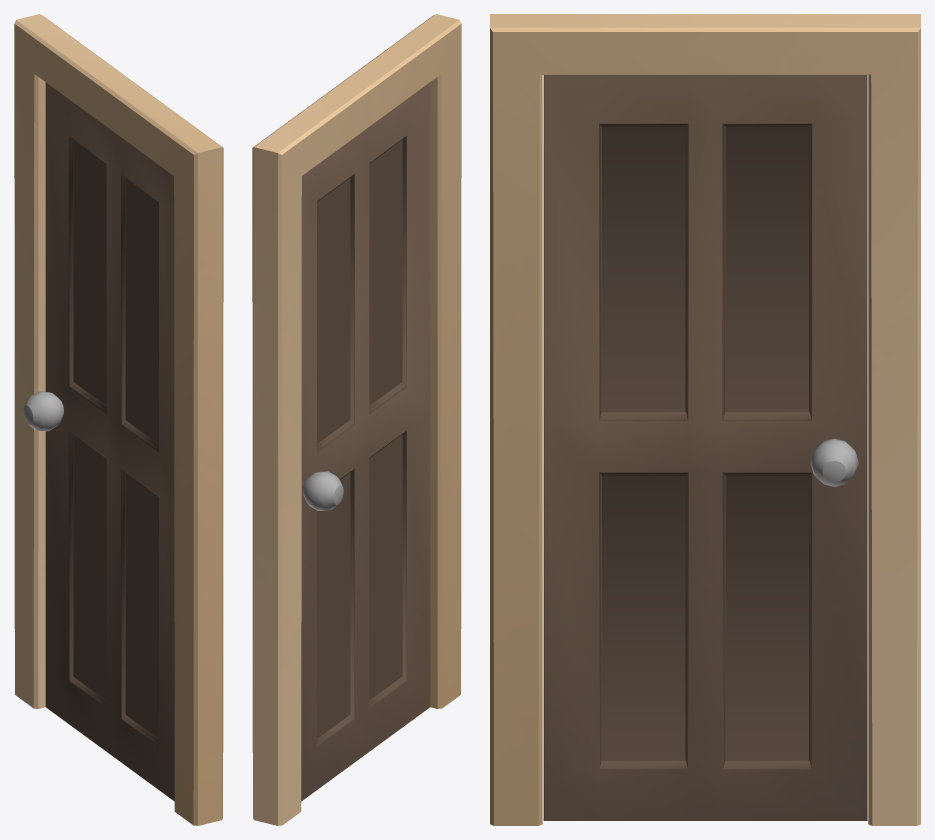
File: Door_CoffeeShop.FBX
3 views of the same model, side by side, from view 1: azimuth 30°, elevation 25°; view 2: azimuth 150°, elevation 25°; view 3: azimuth 270°, elevation 25° (orthographic). The views are drawn at different scales.
Visible parts, largest first — view 1: Door_ToCoffee, Door_ToCoffeeFrame; view 2: Door_ToCoffee, Door_ToCoffeeFrame; view 3: Door_ToCoffee, Door_ToCoffeeFrame.
Part boxes in pixels (x1,y1,x2,y2): Door_ToCoffee: [23, 82, 174, 801]; Door_ToCoffeeFrame: [14, 14, 223, 825]; Door_ToCoffee: [301, 82, 430, 801]; Door_ToCoffeeFrame: [252, 14, 461, 825]; Door_ToCoffee: [543, 75, 867, 820]; Door_ToCoffeeFrame: [490, 14, 920, 825].
Bounding box in the file's own units: 10.39 × 85.41 × 41.87.
